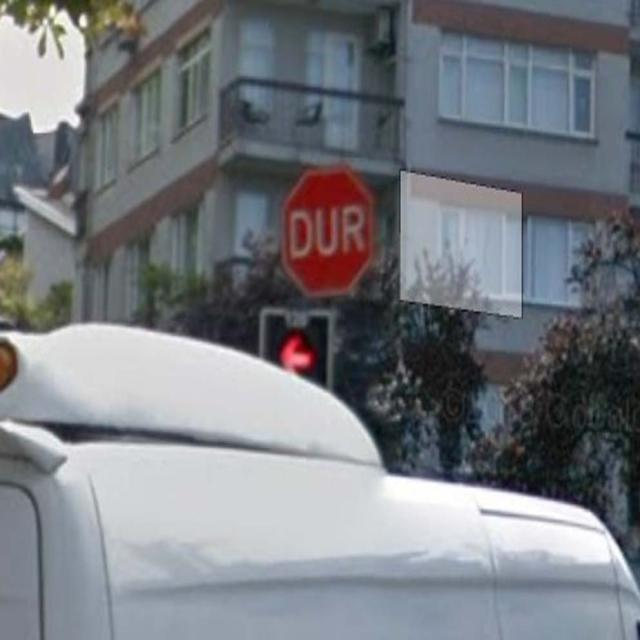dur: (281, 166, 376, 296)
